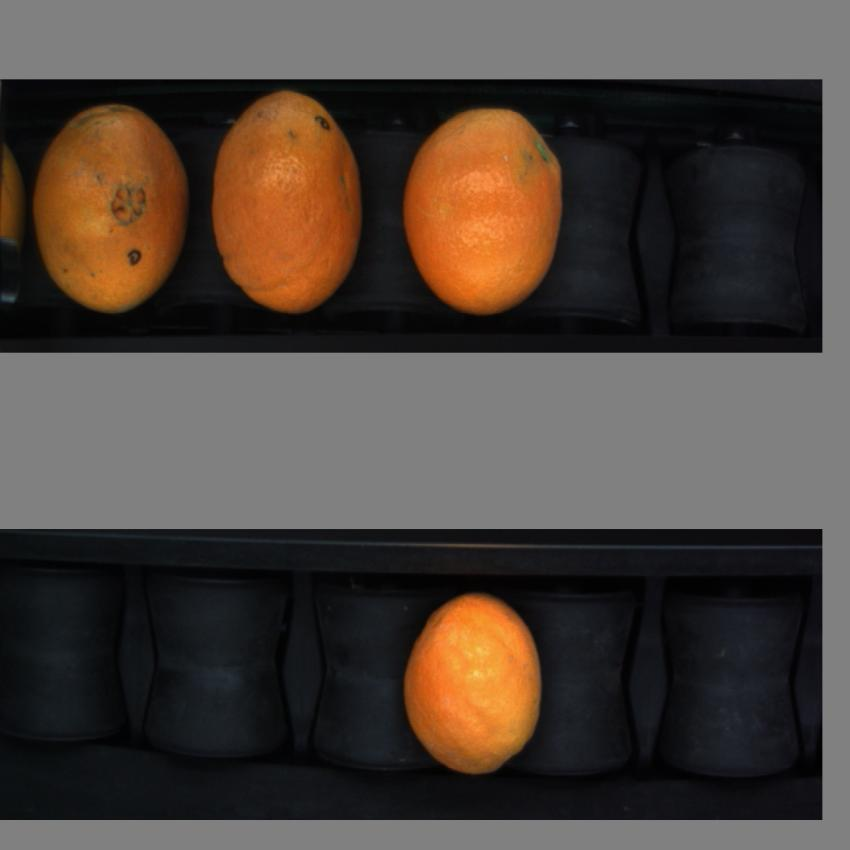Buen estado: (208, 87, 370, 325), (29, 90, 192, 324), (400, 94, 568, 318), (400, 587, 546, 785)
